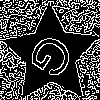G: (25, 29, 84, 88)
